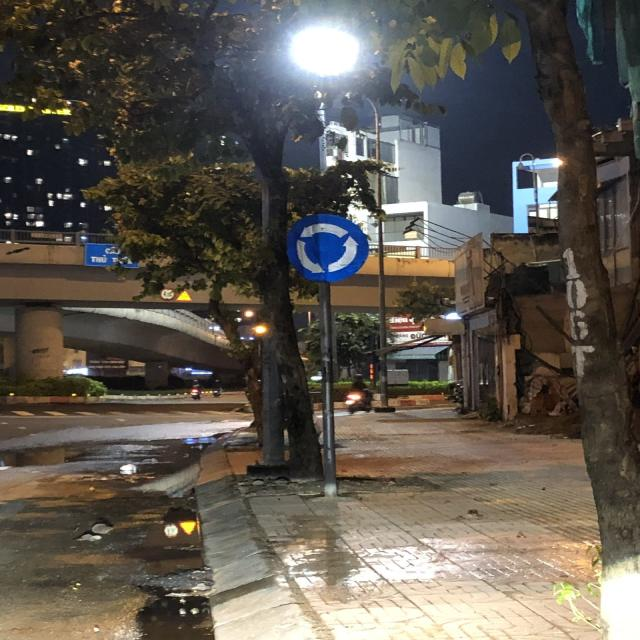Bien bao noi giao nhau chay theo vong xuyen: (280, 211, 376, 285)
